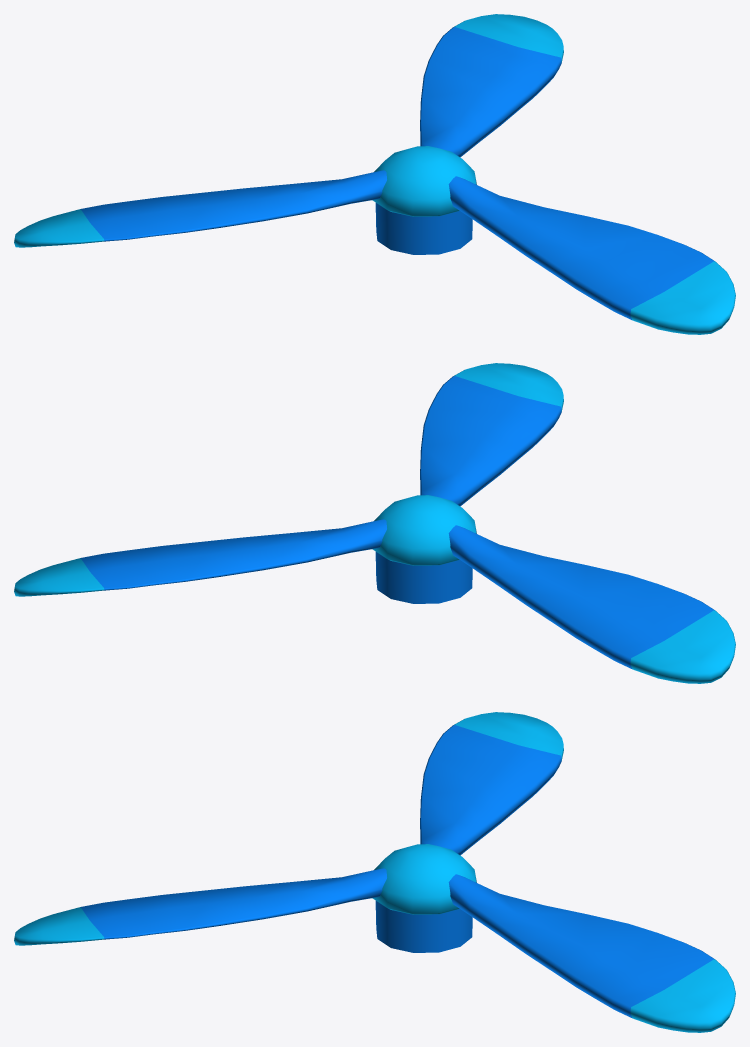
The model's file is Propeller.fbx.
The picture shows the model from 3 angles, top to bottom: view 1: azimuth 30°, elevation 25°; view 2: azimuth 150°, elevation 25°; view 3: azimuth 270°, elevation 25°; orthographic projection.
Visible parts, largest first — view 1: PRP_FloatingCam_Propeller_0, PRP_FloatingCam_Propeller_1, PRP_FloatingCam_Propeller_2; view 2: PRP_FloatingCam_Propeller_0, PRP_FloatingCam_Propeller_1, PRP_FloatingCam_Propeller_2; view 3: PRP_FloatingCam_Propeller_0, PRP_FloatingCam_Propeller_1, PRP_FloatingCam_Propeller_2.
Part boxes in pixels (x1,y1,x2,y2): PRP_FloatingCam_Propeller_0: [81, 27, 714, 319]; PRP_FloatingCam_Propeller_1: [14, 14, 735, 334]; PRP_FloatingCam_Propeller_2: [375, 203, 472, 254]; PRP_FloatingCam_Propeller_0: [81, 376, 714, 668]; PRP_FloatingCam_Propeller_1: [14, 363, 735, 683]; PRP_FloatingCam_Propeller_2: [375, 552, 472, 603]; PRP_FloatingCam_Propeller_0: [81, 725, 714, 1017]; PRP_FloatingCam_Propeller_1: [14, 712, 735, 1032]; PRP_FloatingCam_Propeller_2: [375, 901, 472, 952].
Bounding box in the file's own units: 6.36 × 0.8107 × 6.4.
